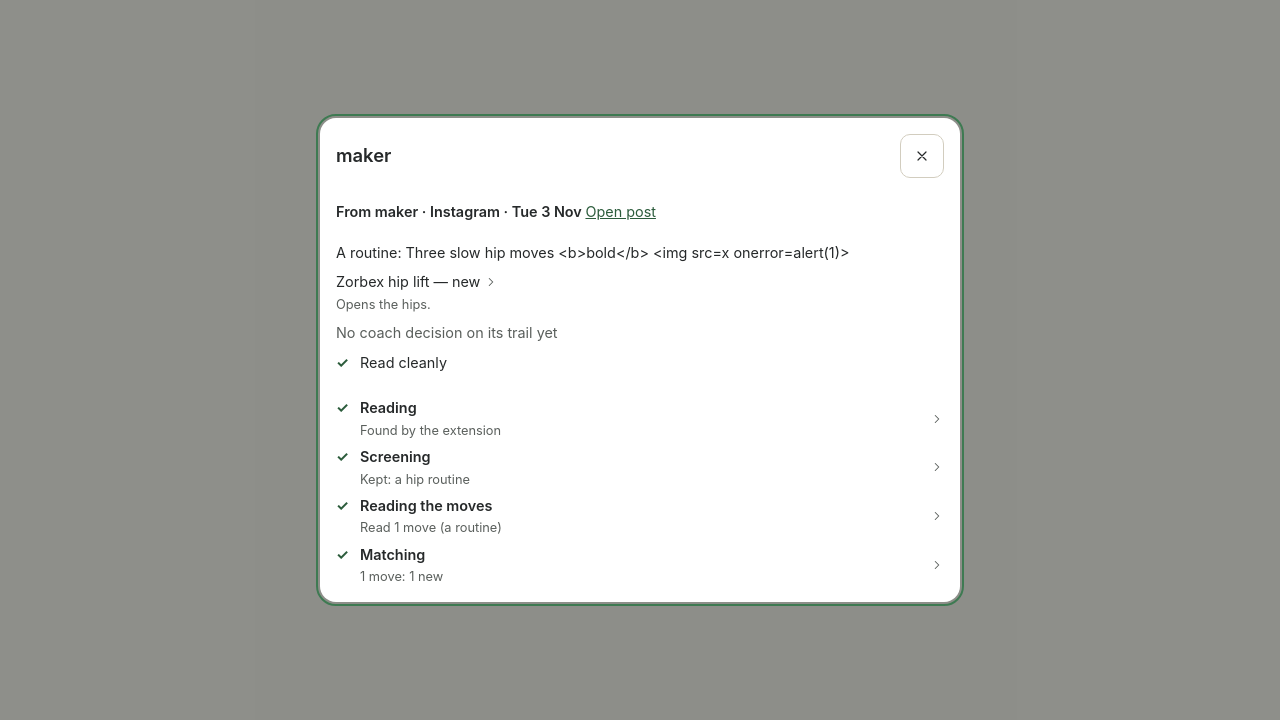
the trail sheet › Show all opens a long value whole, and Show less folds it again
Click the button "Screening Kept: a hip routine": (395, 457) left=360, top=446, right=924, bottom=489
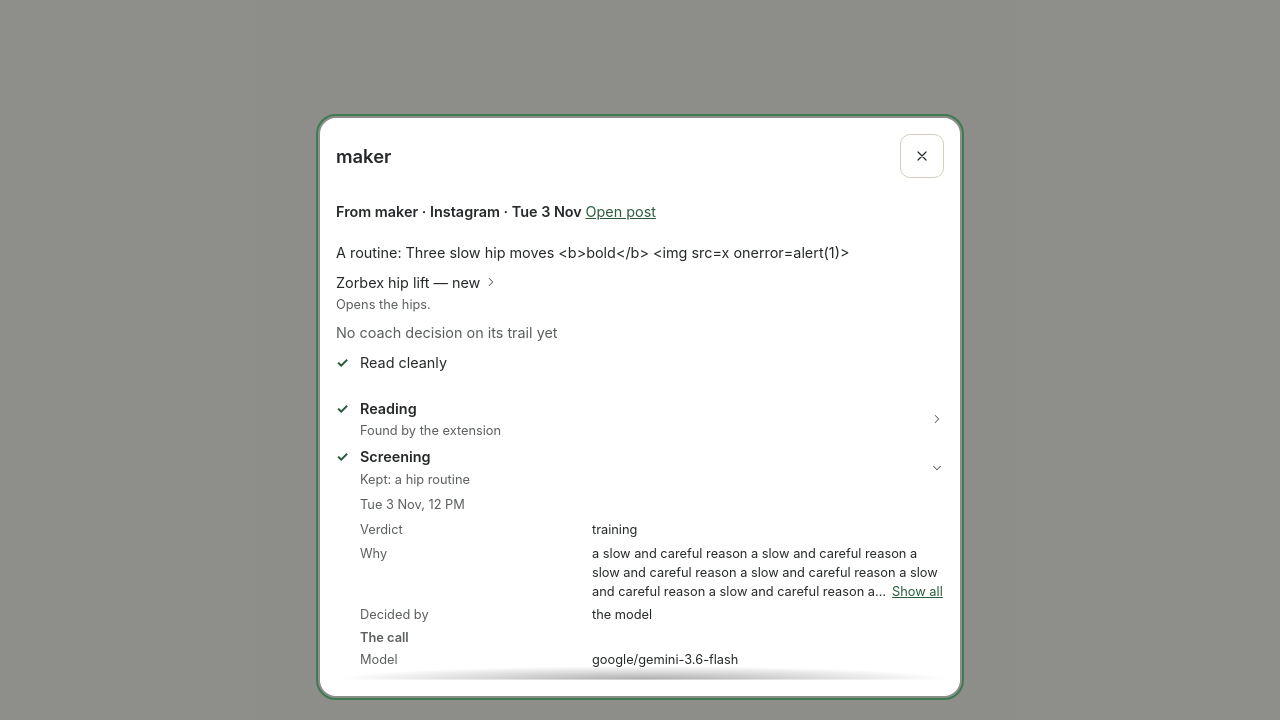
Click the button "Show all": (917, 592) left=892, top=582, right=943, bottom=601
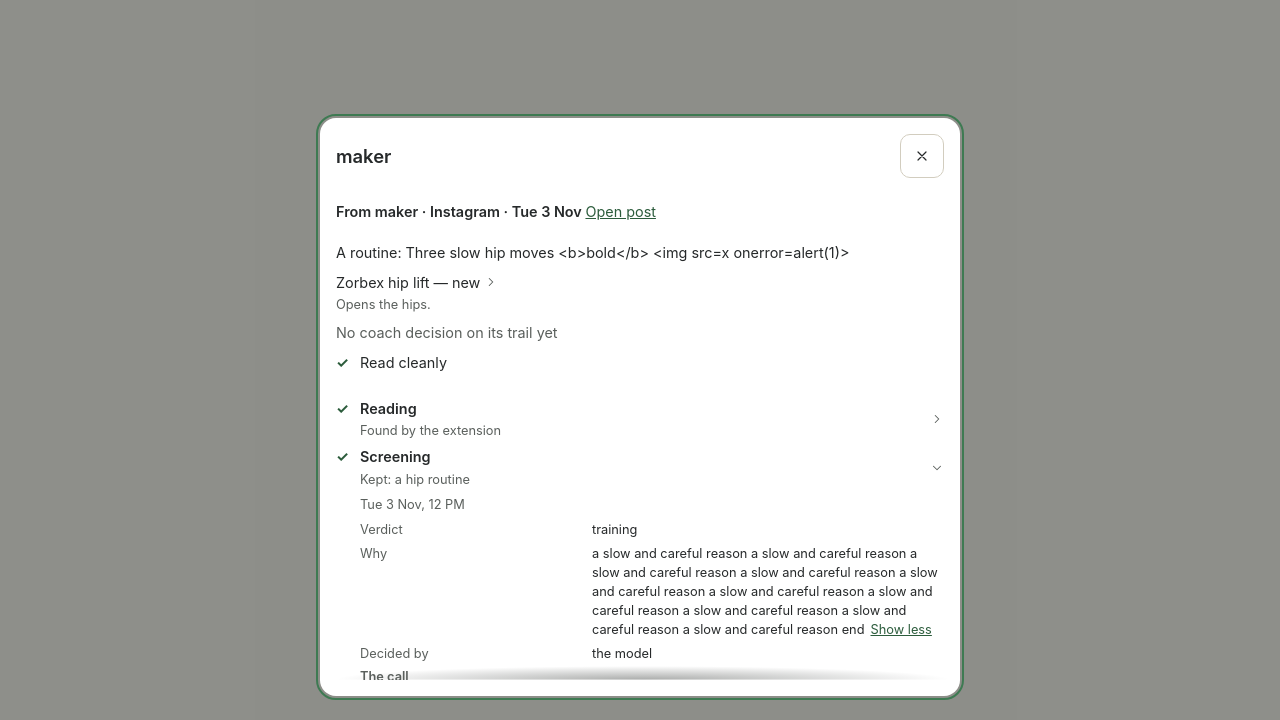
Expected: the button "Show less" is shown, left=870, top=620, right=932, bottom=640
Expected: the button "Show less" is expanded, left=870, top=620, right=932, bottom=640
